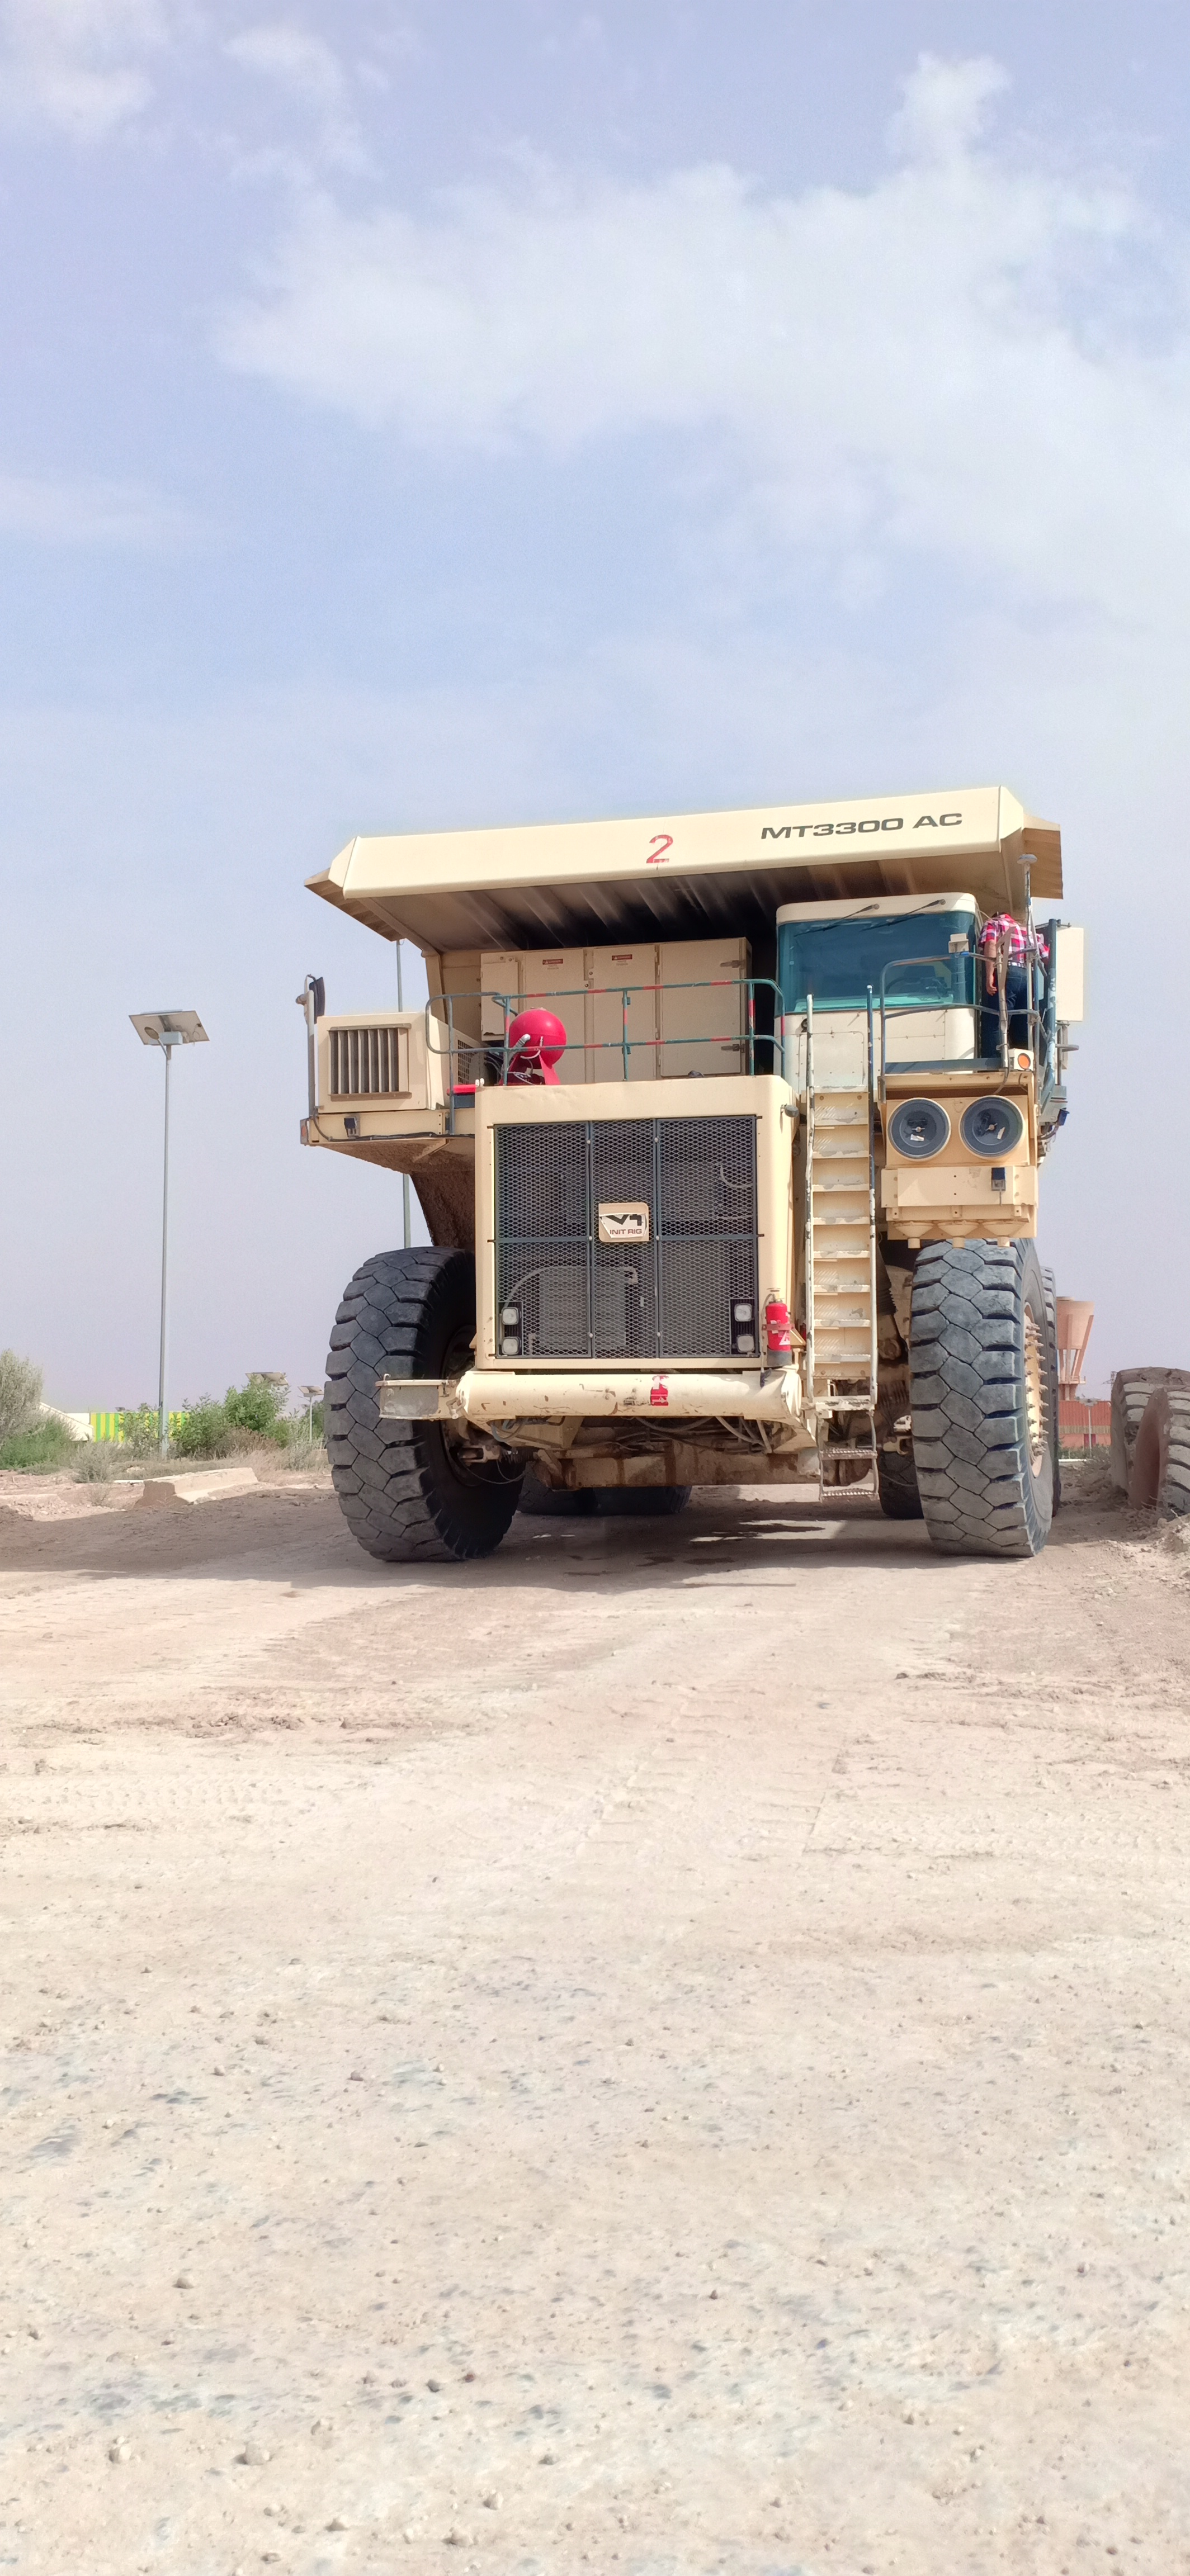camion: (291, 771, 1111, 1585)
